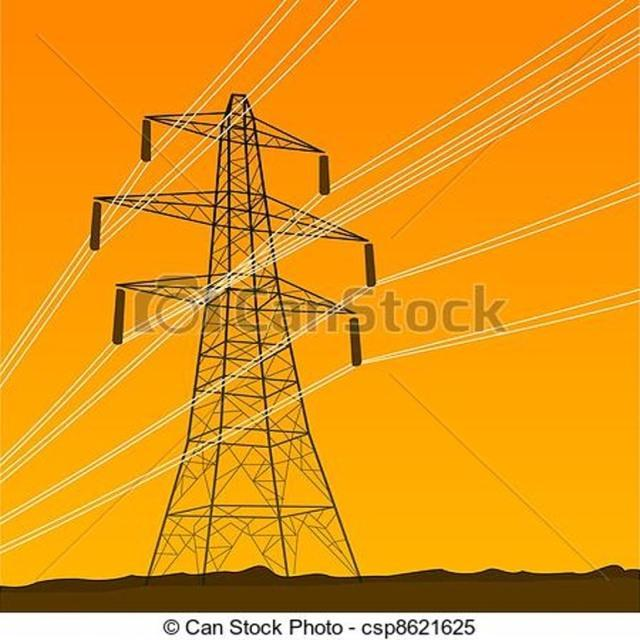non-critical vegetation: (95, 90, 398, 581)
